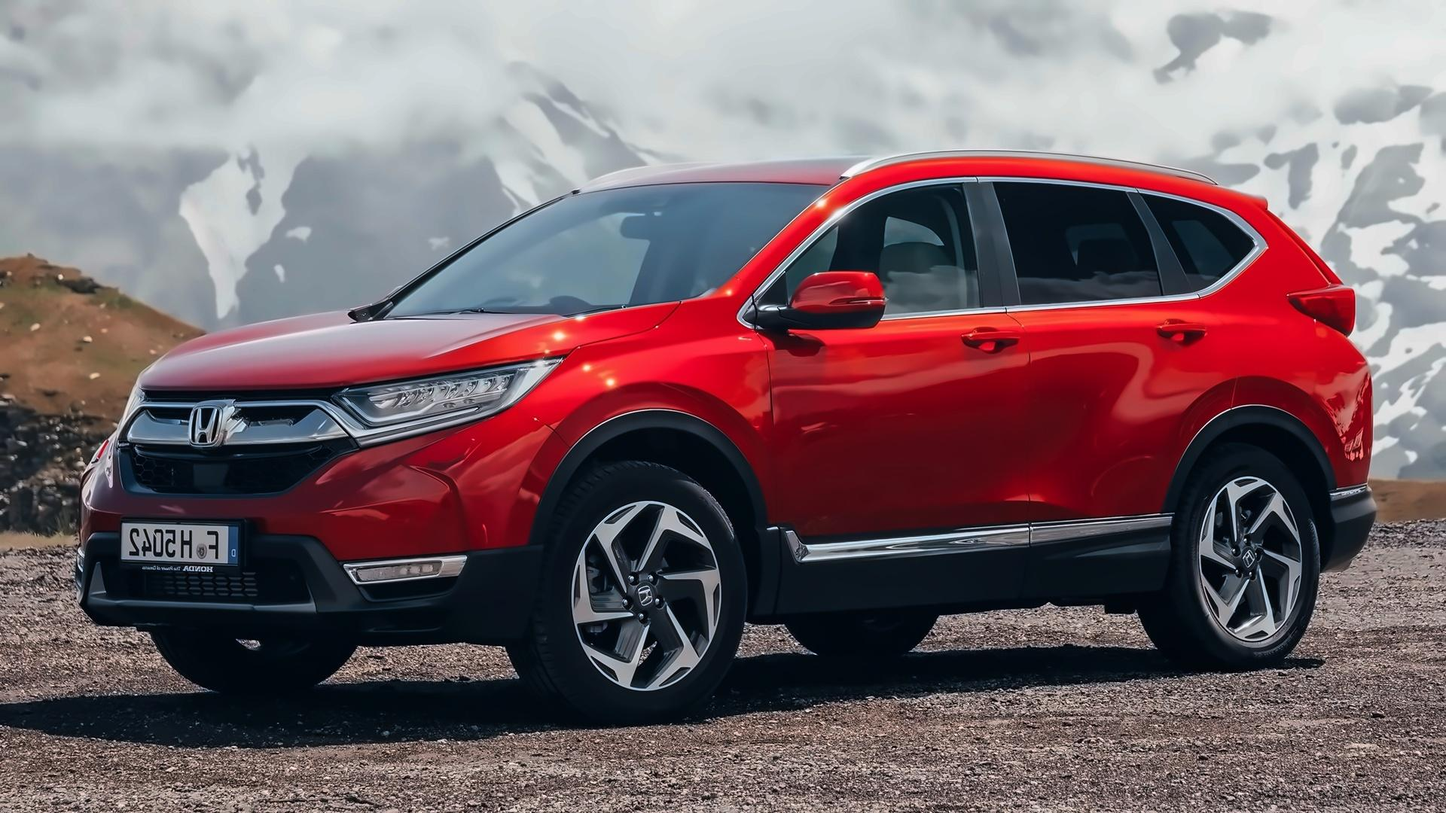Car hood: (135, 303, 682, 394)
Fender - -F-L-: (518, 295, 790, 640)
Fender - -R-L-: (1178, 183, 1365, 500)
Front bumper: (70, 505, 568, 641)
Headlight - -L-: (335, 353, 567, 451)
Passenger-s door - -F-L-: (762, 146, 1045, 624)
Passenger-s door - -R-L-: (1002, 139, 1226, 630)
Rear bumper: (1315, 489, 1379, 577)
Rear light - -L-: (1282, 282, 1358, 339)
Side bumper - -L-: (747, 506, 1193, 634)
Side mirror - -L-: (751, 265, 888, 331)
